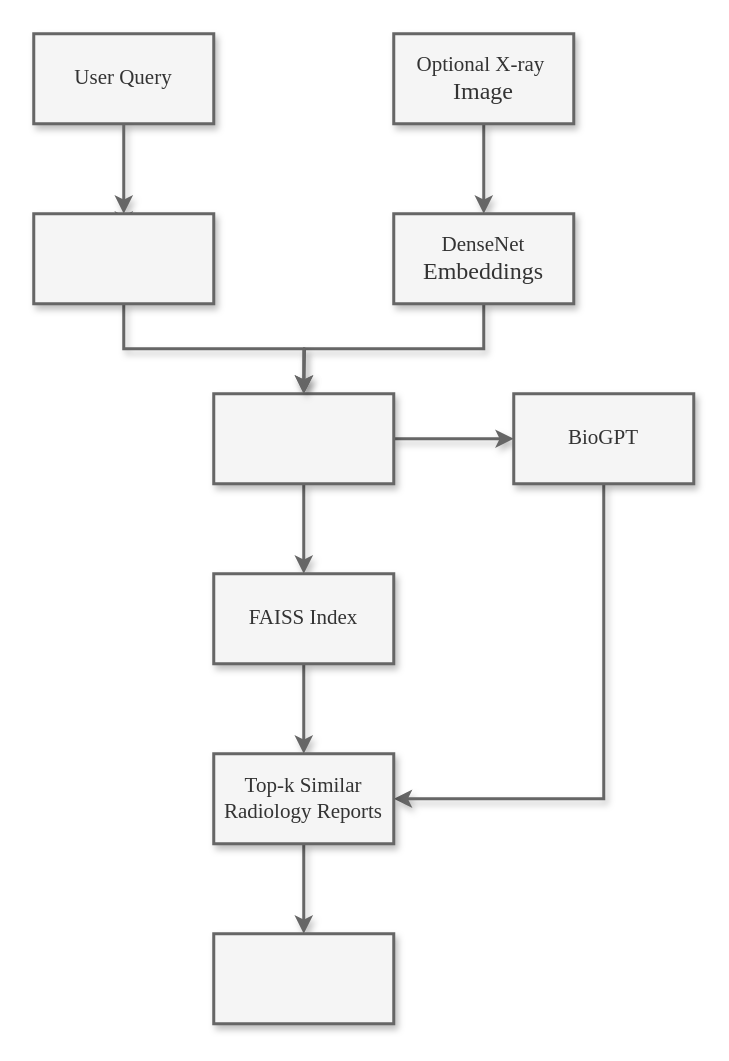
This 729x1061 diagram has some shape labels left out. The shapes that lost their labels are listed below. From the top down, each one's centre as x and y in pixels, then its label:
(x=125, y=260): BioBert (Text Embeddings)
(x=305, y=440): Combined Embeddings
(x=305, y=980): Clinical Summary Output
